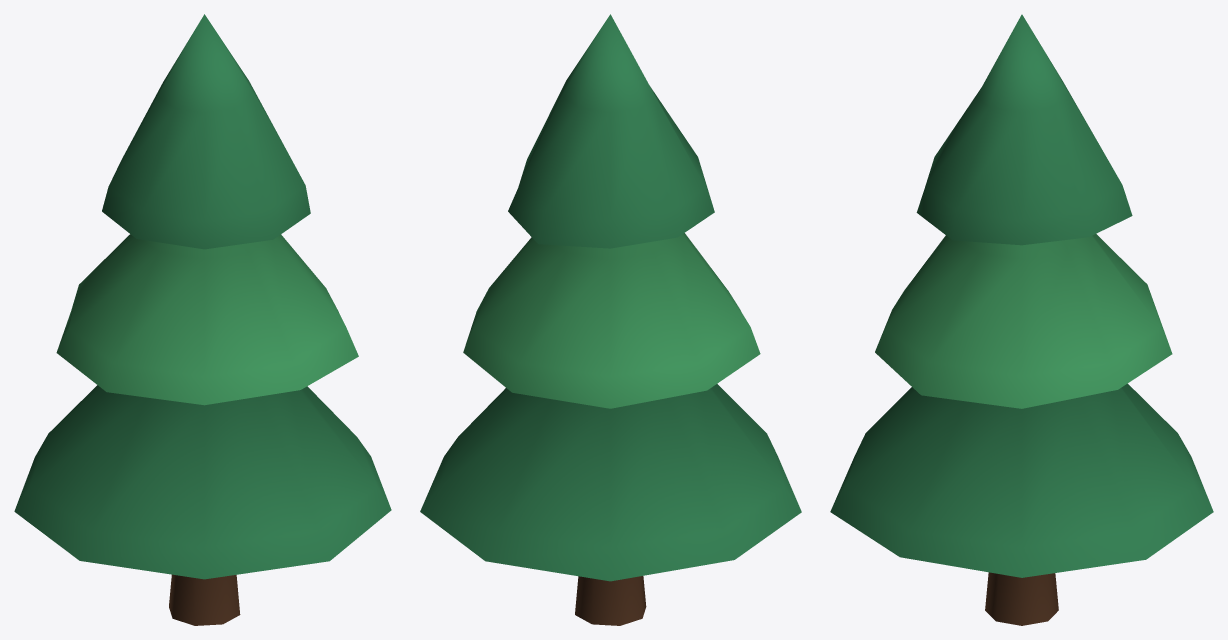
File: tree_pine.glb
3 views of the same model, side by side, from view 1: azimuth 30°, elevation 25°; view 2: azimuth 150°, elevation 25°; view 3: azimuth 270°, elevation 25° (orthographic).
Parts seen in each view (by area): view 1: Tree; view 2: Tree; view 3: Tree.
Boxes of the visible parts, left/top/right/bottom form: Tree: left=14, top=14, right=391, bottom=625; Tree: left=420, top=14, right=801, bottom=625; Tree: left=830, top=14, right=1213, bottom=625.
Size of the model in its own units: 0.8116 by 1.43 by 0.8308.
Materials: 1 (1 with a texture image).
